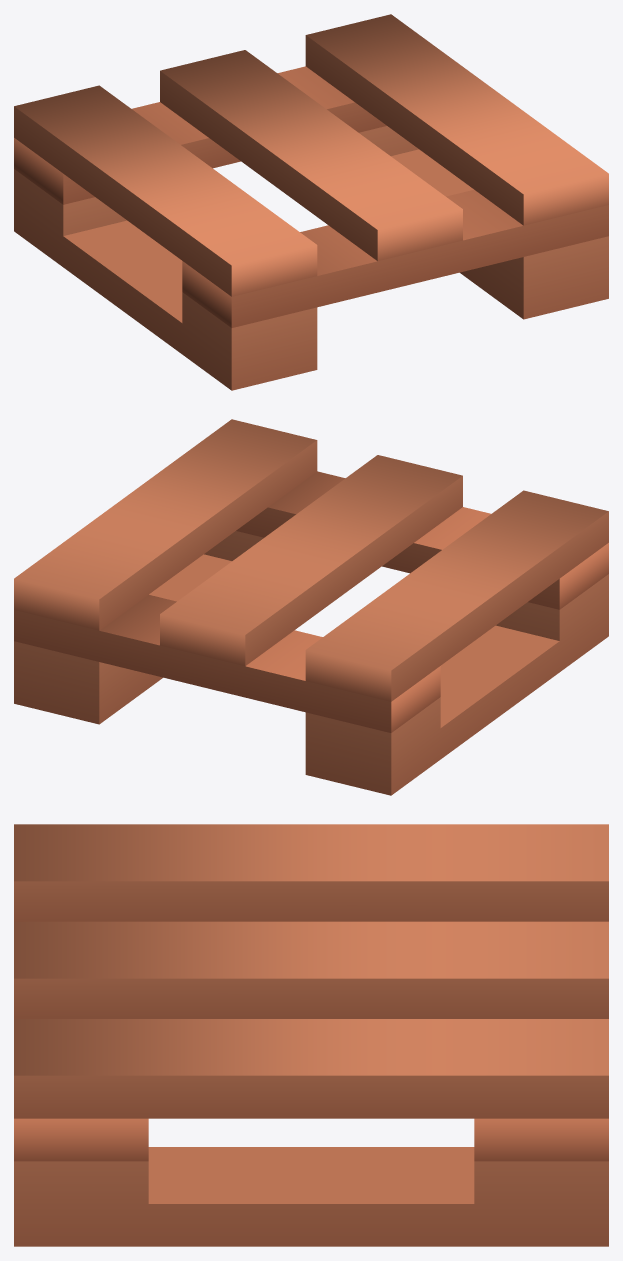
File: mini-skate--pallet.glb
3 renders of one model, top to bottom at view 1: azimuth 30°, elevation 25°; view 2: azimuth 150°, elevation 25°; view 3: azimuth 270°, elevation 25°, orthographic. The views are drawn at different scales.
Parts seen in each view (by area): view 1: pallet; view 2: pallet; view 3: pallet.
Part boxes in pixels (left/top/right/bottom): pallet: left=14, top=14, right=608, bottom=390; pallet: left=14, top=419, right=608, bottom=795; pallet: left=14, top=824, right=608, bottom=1246.
Size of the model in its own units: 0.5 by 0.1584 by 0.5.
Materials: 1 (1 with a texture image).
